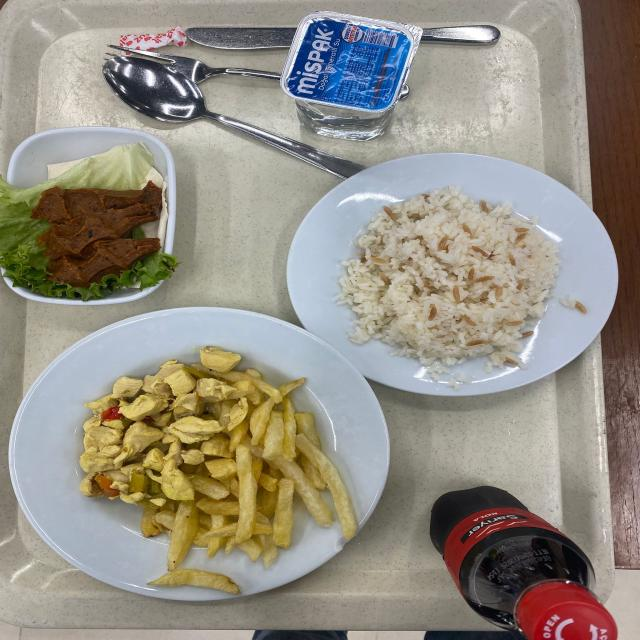ana_yemek: (4, 317, 376, 592), (305, 154, 597, 371)
yan_yemek: (1, 127, 180, 299)
